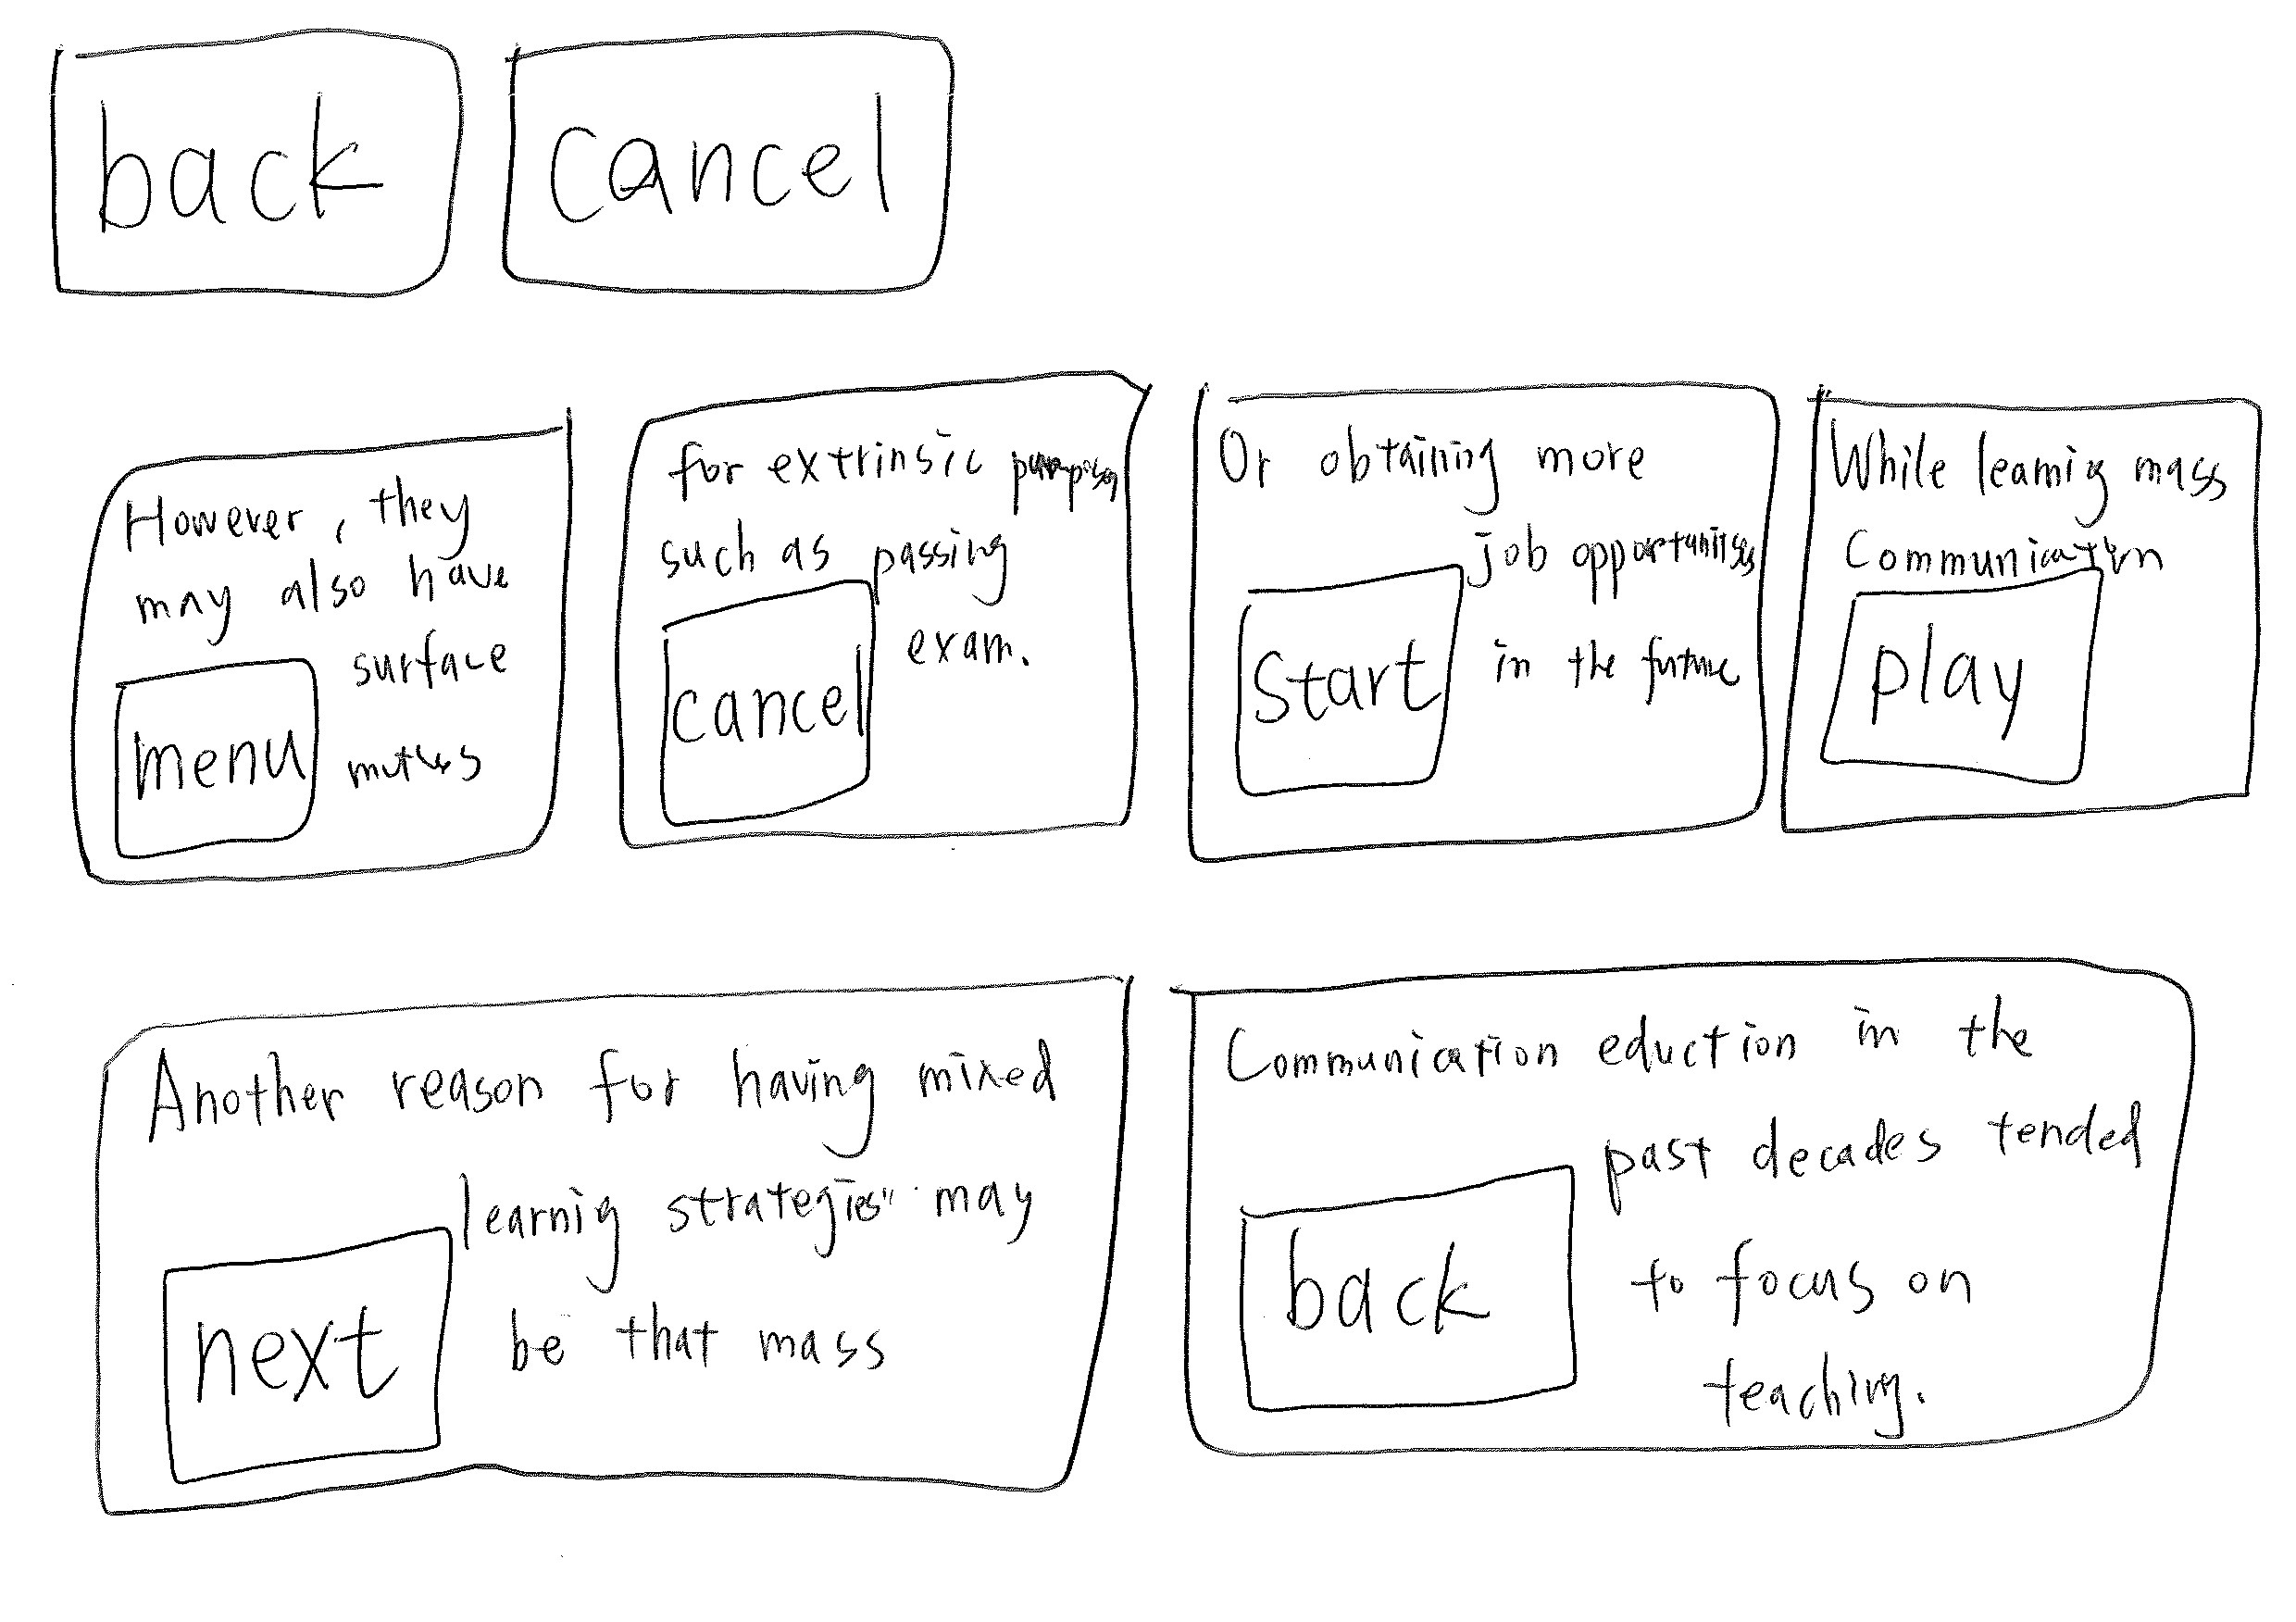back: (28, 12, 470, 319), (1211, 1145, 1596, 1427)
cancel: (497, 18, 979, 305), (637, 581, 881, 822)
double: (61, 955, 1164, 1531), (1144, 936, 2252, 1506)
menu: (93, 655, 334, 858)
next: (144, 1220, 462, 1496)
play: (1820, 576, 2120, 797)
quadruple: (1176, 365, 1794, 871), (46, 409, 592, 918), (606, 362, 1152, 871), (1771, 363, 2296, 874)
row: (30, 894, 2296, 1596), (30, 344, 2296, 890), (30, 11, 2296, 319)
small-title: (161, 1053, 1060, 1113), (1229, 1015, 2038, 1067), (1841, 425, 2231, 509), (671, 428, 1099, 504), (1208, 425, 1678, 488), (132, 504, 490, 537)
start: (1220, 569, 1483, 799)
text: (1632, 1095, 2138, 1411), (458, 1136, 1074, 1378), (1490, 530, 1748, 707), (339, 600, 500, 813), (897, 511, 1067, 699), (144, 556, 499, 621), (1850, 511, 2150, 565), (662, 535, 1023, 579)
